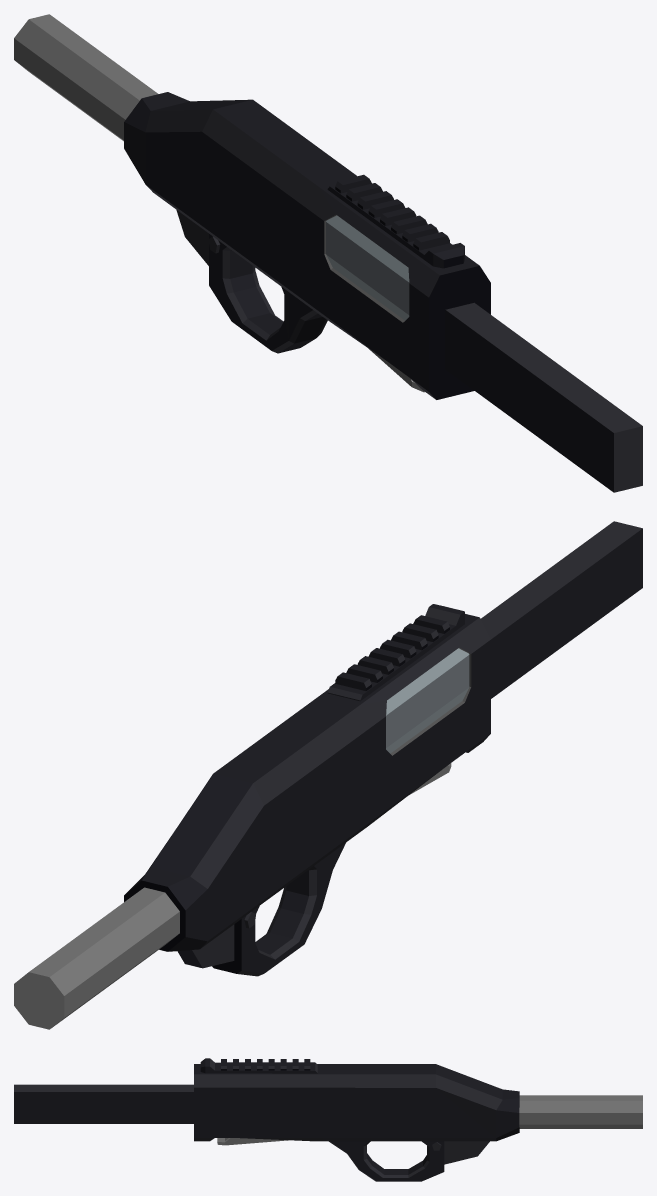
File: MW1_Platform_12ga_01.fbx
The picture shows the model from 3 angles, top to bottom: view 1: azimuth 30°, elevation 25°; view 2: azimuth 150°, elevation 25°; view 3: azimuth 270°, elevation 25°; orthographic projection. The views are drawn at different scales.
Visible parts, largest first — view 1: Platform_12ga_01, 12ga_Platform_01_Slide; view 2: Platform_12ga_01, 12ga_Platform_01_Slide; view 3: Platform_12ga_01, 12ga_LoadingPort_Gate.
Part boxes in pixels (x1=…): Platform_12ga_01: x1=14, y1=14, x2=642, y2=492; 12ga_Platform_01_Slide: x1=326, y1=215, x2=409, y2=320; Platform_12ga_01: x1=14, y1=521, x2=642, y2=1029; 12ga_Platform_01_Slide: x1=386, y1=648, x2=469, y2=753; Platform_12ga_01: x1=14, y1=1058, x2=642, y2=1181; 12ga_LoadingPort_Gate: x1=217, y1=1138, x2=287, y2=1145.
Size of the model in its own units: 3.22 by 10.77 by 52.81.
